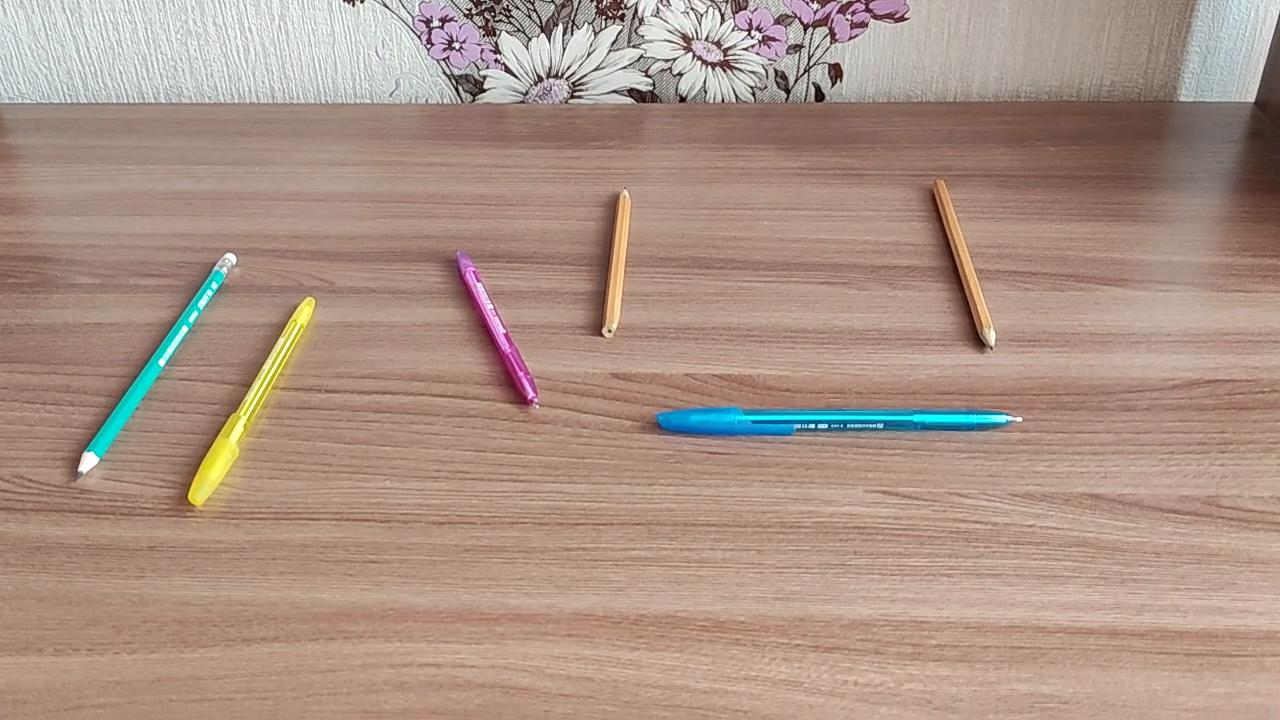pen: (187, 293, 321, 508), (454, 247, 544, 415), (650, 405, 1031, 436)
pencil: (72, 245, 241, 479), (924, 173, 1000, 358), (600, 182, 640, 344)
